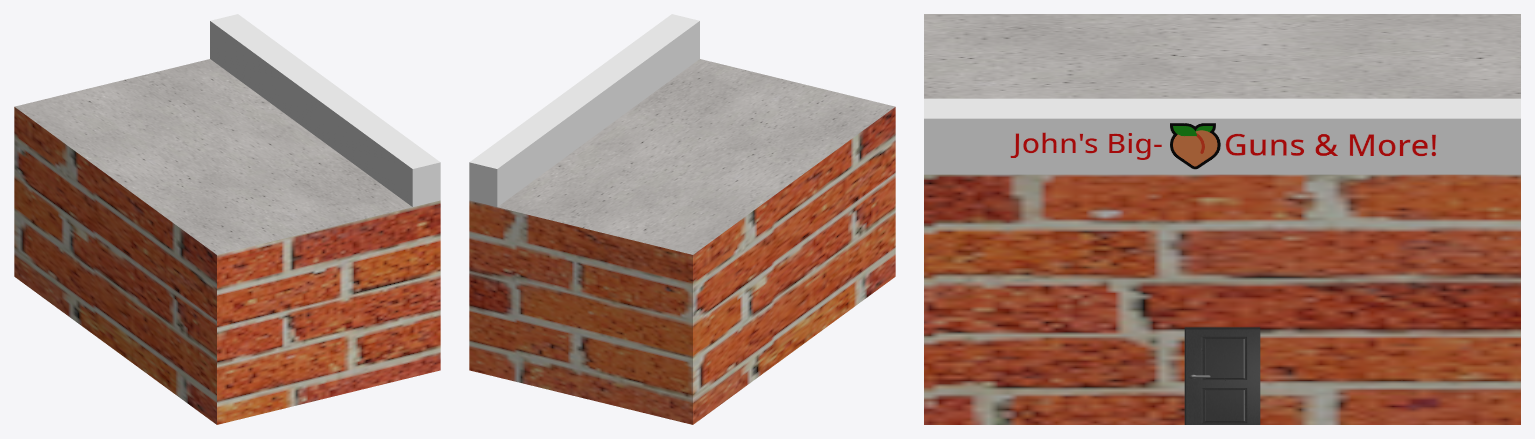
Rendered from Gun Building.fbx.
3 views of the same model, side by side, from view 1: azimuth 30°, elevation 25°; view 2: azimuth 150°, elevation 25°; view 3: azimuth 270°, elevation 25° (orthographic). The views are drawn at different scales.
Parts seen in each view (by area): view 1: Gun Building; view 2: Gun Building; view 3: Gun Building.
Boxes of the visible parts, left/top/right/bottom form: Gun Building: left=14, top=14, right=440, bottom=424; Gun Building: left=469, top=14, right=895, bottom=424; Gun Building: left=924, top=14, right=1520, bottom=424.
Bounding box in the file's own units: 1697 × 1509 × 2663.
